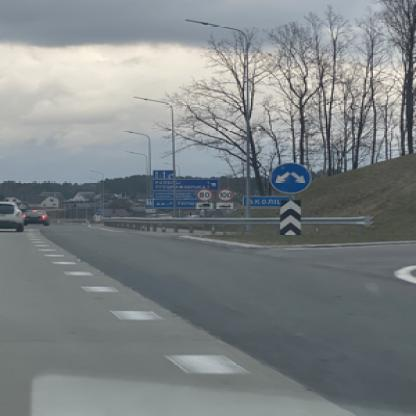speedlimit: (194, 188, 210, 200), (216, 189, 232, 201)
